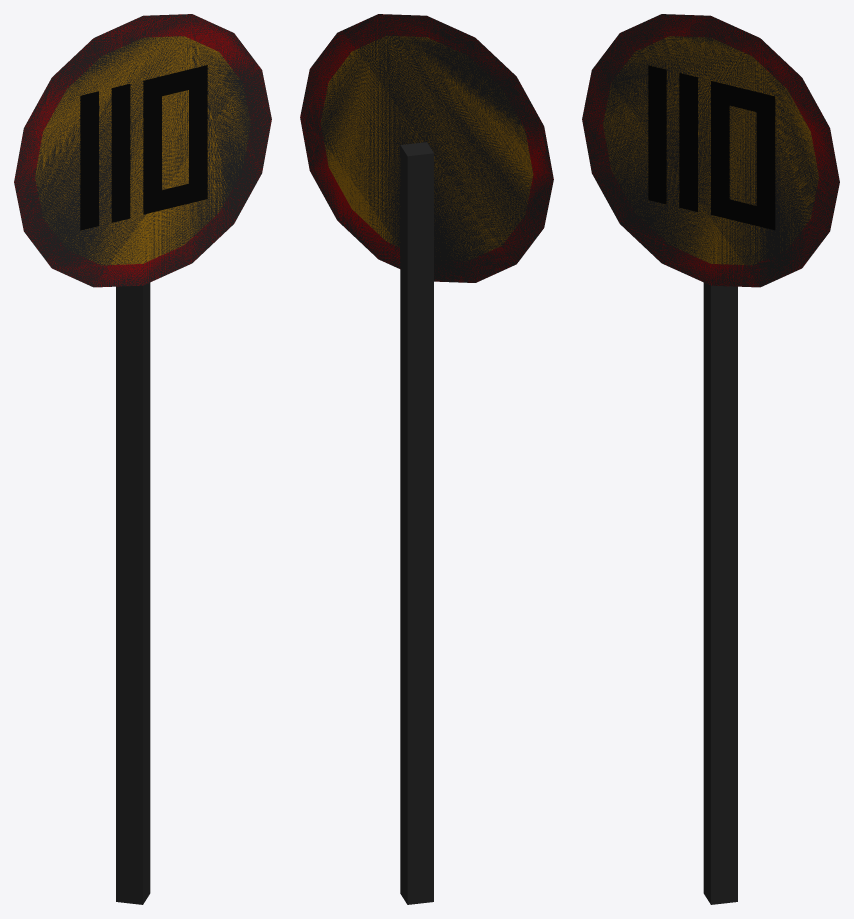
File: 110kmh.obj
The picture shows the model from 3 angles, left to right: view 1: azimuth 30°, elevation 25°; view 2: azimuth 150°, elevation 25°; view 3: azimuth 330°, elevation 25°; orthographic projection.
Parts seen in each view (by area): view 1: Cylinder.001; view 2: Cylinder.001; view 3: Cylinder.001.
Boxes of the visible parts, bbox=[...] form: Cylinder.001: bbox=[14, 14, 271, 904]; Cylinder.001: bbox=[300, 14, 553, 904]; Cylinder.001: bbox=[582, 14, 839, 904].
Size of the model in its own units: 0.8957 by 2.95 by 0.1199.
